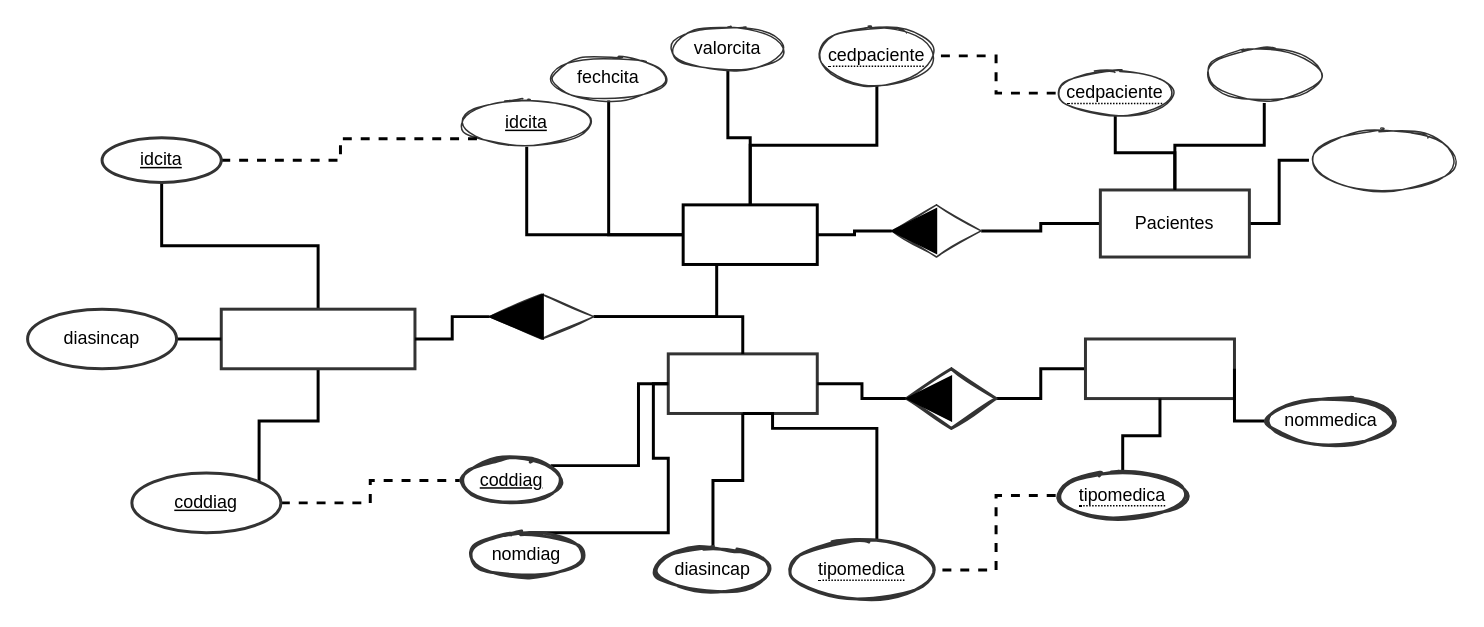
This 1484x627 diagram has some shape labels left out. Each missing label, with the box of its shape:
Cita_medicas: (681, 203, 818, 265)
Cmedica_diagnosticos: (219, 307, 416, 370)
Diagnósticos: (666, 352, 818, 414)
nompaciente: (1203, 47, 1324, 101)
telpaciente: (1307, 129, 1458, 190)
tipo_medicama: (1083, 337, 1235, 399)
